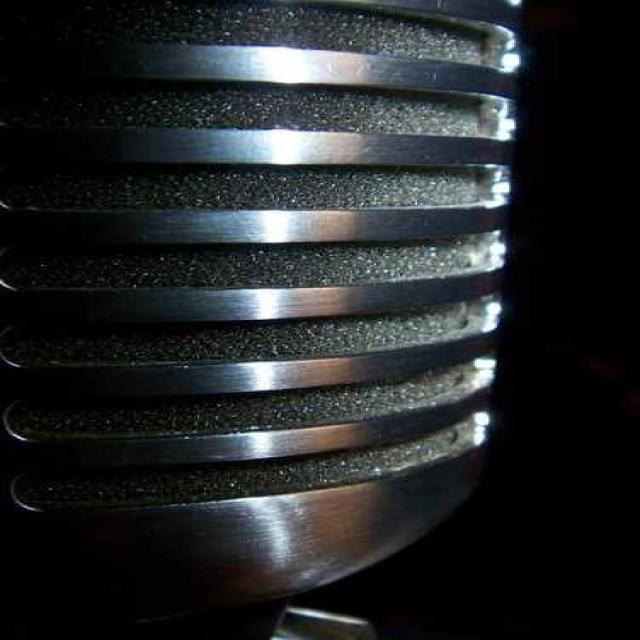microphone: (5, 7, 521, 637)
